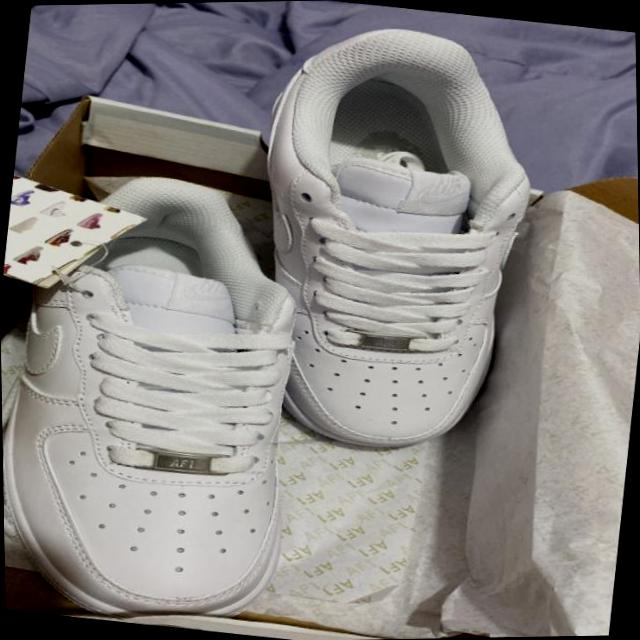nike_original_airforce: (0, 153, 330, 637), (220, 4, 562, 471)
